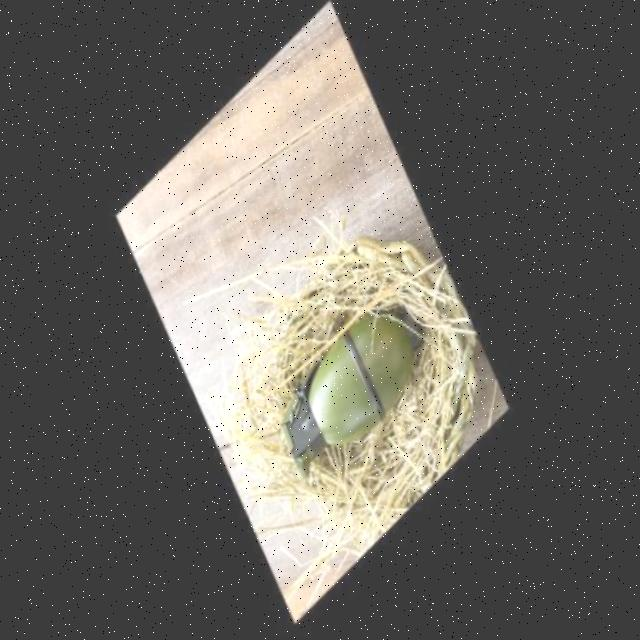grenade: (263, 285, 441, 503)
